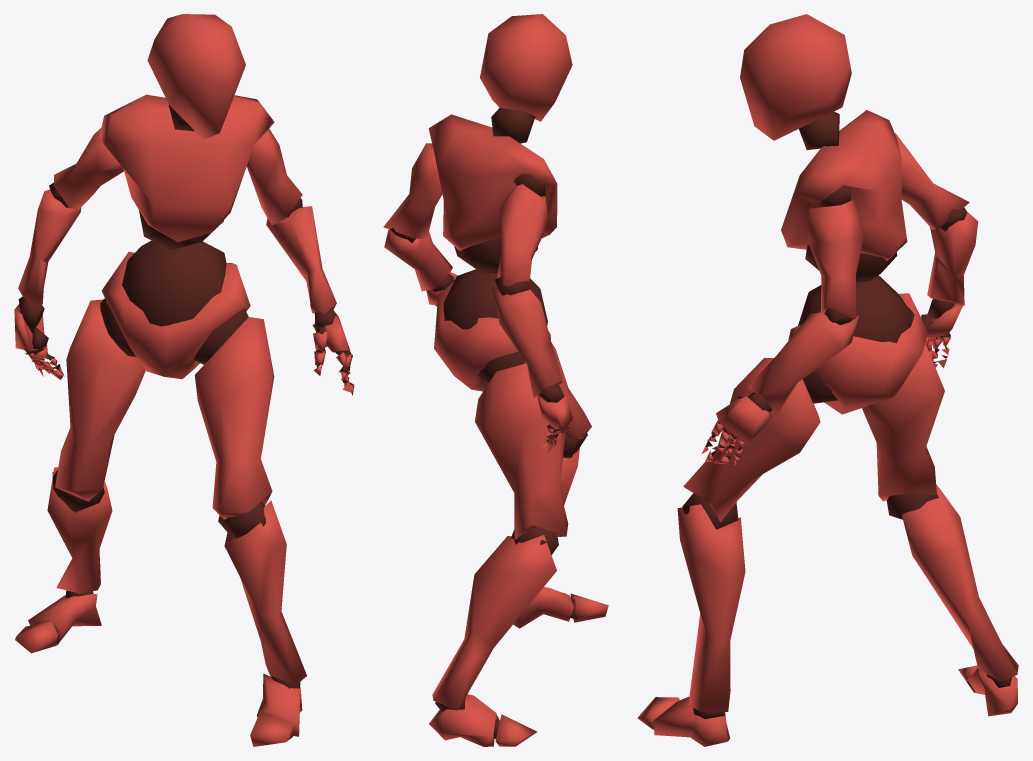
3 views of the same model, side by side, from view 1: azimuth 30°, elevation 25°; view 2: azimuth 150°, elevation 25°; view 3: azimuth 270°, elevation 25° (orthographic). The views are drawn at different scales.
Parts seen in each view (by area): view 1: Beta_Surface; view 2: Beta_Surface; view 3: Beta_Surface.
Boxes of the visible parts, bbox=[...] form: Beta_Surface: bbox=[14, 14, 354, 746]; Beta_Surface: bbox=[383, 14, 608, 746]; Beta_Surface: bbox=[637, 14, 1018, 746].
Size of the model in its own units: 5.36 by 14.63 by 7.2.
